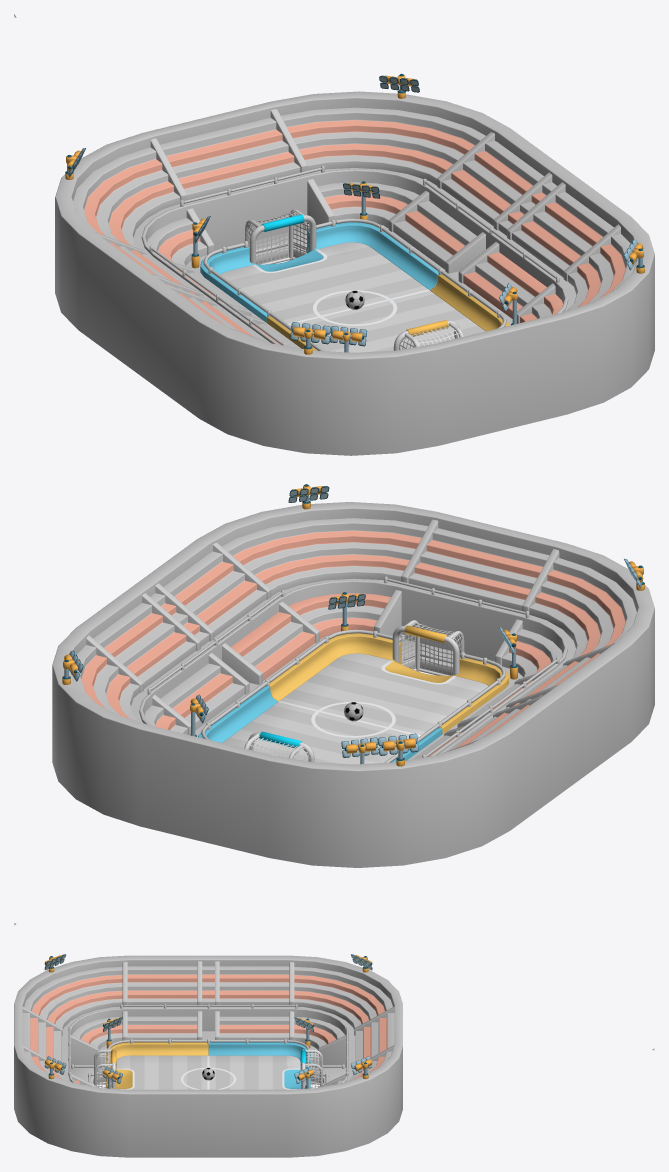
File: Stadium.fbx
3 renders of one model, top to bottom at view 1: azimuth 30°, elevation 25°; view 2: azimuth 150°, elevation 25°; view 3: azimuth 270°, elevation 25°, orthographic. The views are drawn at different scales.
Visible parts, largest first — view 1: Level10VisualsExtra, Level10Visuals, Level10VisualsExtra2, Level10VisualsExtra3, Level10VisualsNets; view 2: Level10VisualsExtra, Level10Visuals, Level10VisualsExtra2, Level10VisualsExtra3, Level10VisualsNets; view 3: Level10VisualsExtra, Level10Visuals, Level10VisualsExtra2, Level10VisualsExtra3, Level10VisualsNets.
Boxes of the visible parts, x1,y1,x2,y2 form: Level10VisualsExtra: (55,91,654,455); Level10Visuals: (200,209,509,352); Level10VisualsExtra2: (65,73,644,354); Level10VisualsExtra3: (203,218,506,351); Level10VisualsNets: (245,211,459,349); Level10VisualsExtra: (52,502,654,867); Level10Visuals: (198,620,508,764); Level10VisualsExtra2: (62,484,644,766); Level10VisualsExtra3: (201,629,505,762); Level10VisualsNets: (248,622,464,761); Level10VisualsExtra: (14,955,402,1157); Level10Visuals: (94,1042,322,1089); Level10VisualsExtra2: (44,954,372,1088); Level10VisualsExtra3: (71,1039,344,1088); Level10VisualsNets: (95,1051,321,1087).
Size of what is drawn, in the model's own units: 47.72 by 13.88 by 93.2.
